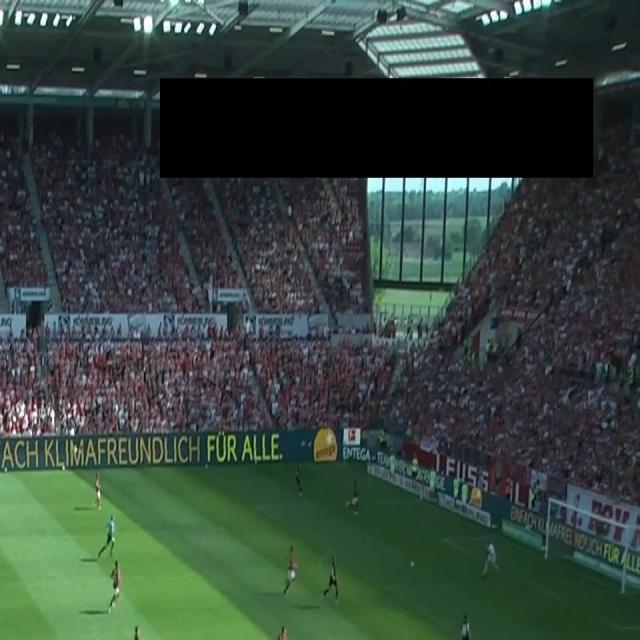ball: (410, 560, 415, 568)
